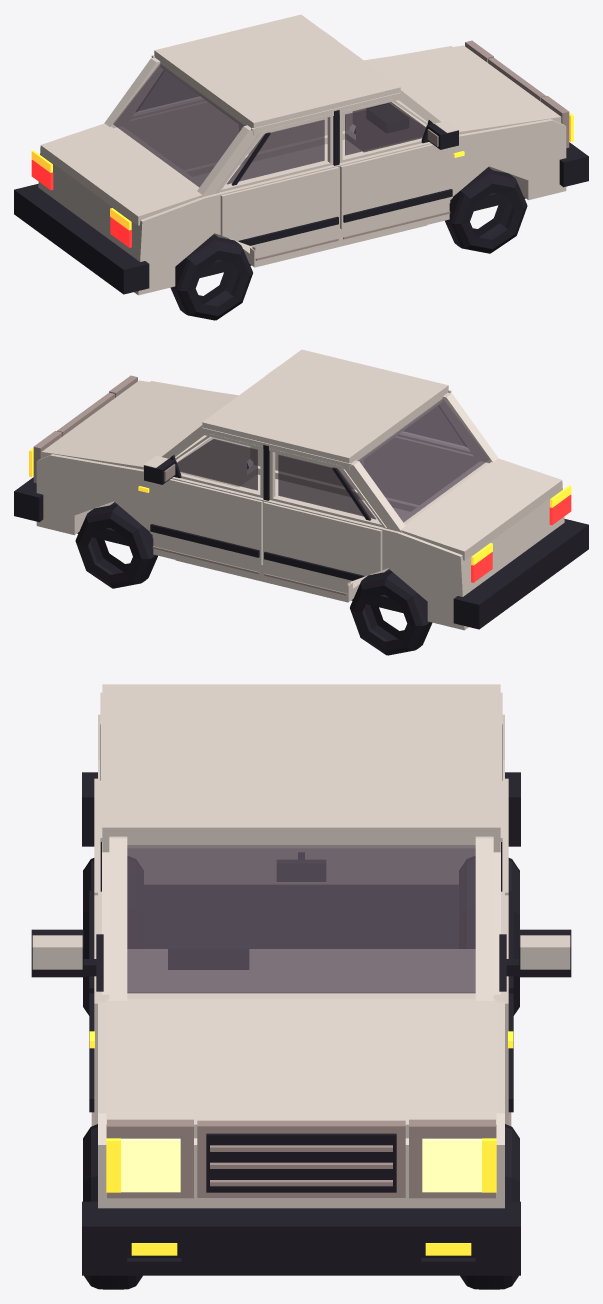
The model's file is veh.sedan-white.lod2.glb.
3 views of the same model, one above another, from view 1: azimuth 30°, elevation 25°; view 2: azimuth 150°, elevation 25°; view 3: azimuth 270°, elevation 25° (orthographic). The views are drawn at different scales.
Parts seen in each view (by area): view 1: body, object 8, wheelRL, wheelFL, lightsBrake; view 2: body, object 8, wheelRR, wheelFR, lightsBrake; view 3: body, object 8, lightsFront, wheelRL, wheelRR, wheelFL, wheelFR.
Boxes of the visible parts, x1,y1,x2,y2 form: body: (38, 14, 566, 295); object 8: (14, 32, 588, 294); wheelRL: (170, 236, 252, 320); wheelFL: (445, 169, 527, 253); lightsBrake: (31, 150, 131, 247); body: (36, 349, 564, 630); object 8: (14, 367, 588, 629); wheelRR: (350, 571, 432, 655); wheelFR: (75, 504, 157, 588); lightsBrake: (471, 485, 571, 582); body: (98, 684, 504, 1208); object 8: (31, 724, 571, 1275); lightsFront: (106, 1138, 496, 1192); wheelRL: (83, 856, 143, 1015); wheelRR: (459, 856, 519, 1015); wheelFL: (83, 1124, 142, 1289); wheelFR: (460, 1124, 519, 1289).
Size of the model in its own units: 4.75 by 1.82 by 2.39.
